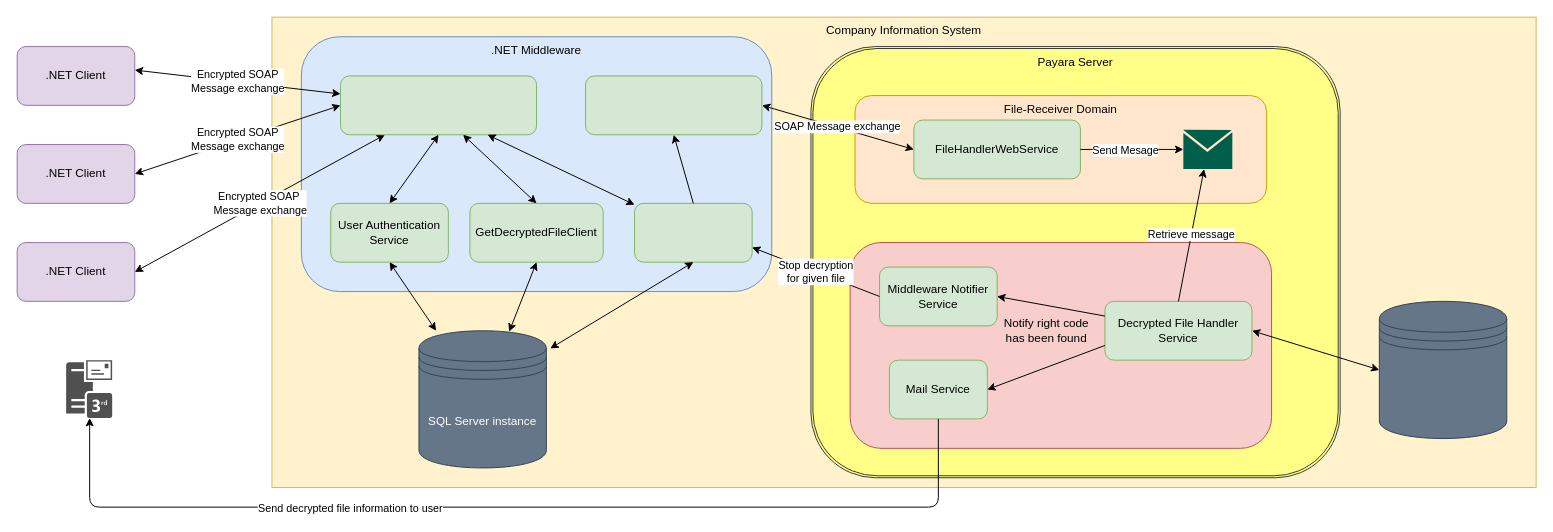
Some shapes in this 1553 by 532 pixel diagram are drawn without their labels. The box of each missing label's shape, as (x1, y1, x2, y2) in pixels:
File DecrypterService: (634, 202, 752, 262)
File-Processor Domain: (849, 242, 1272, 448)
JMS Queue: (1183, 129, 1232, 169)
Oracle Database instance: (1378, 300, 1507, 439)
RequestHandlerWebService: (340, 75, 537, 135)
SendDecryptedFileService: (585, 75, 762, 135)
SMTP Server: (66, 360, 112, 417)
